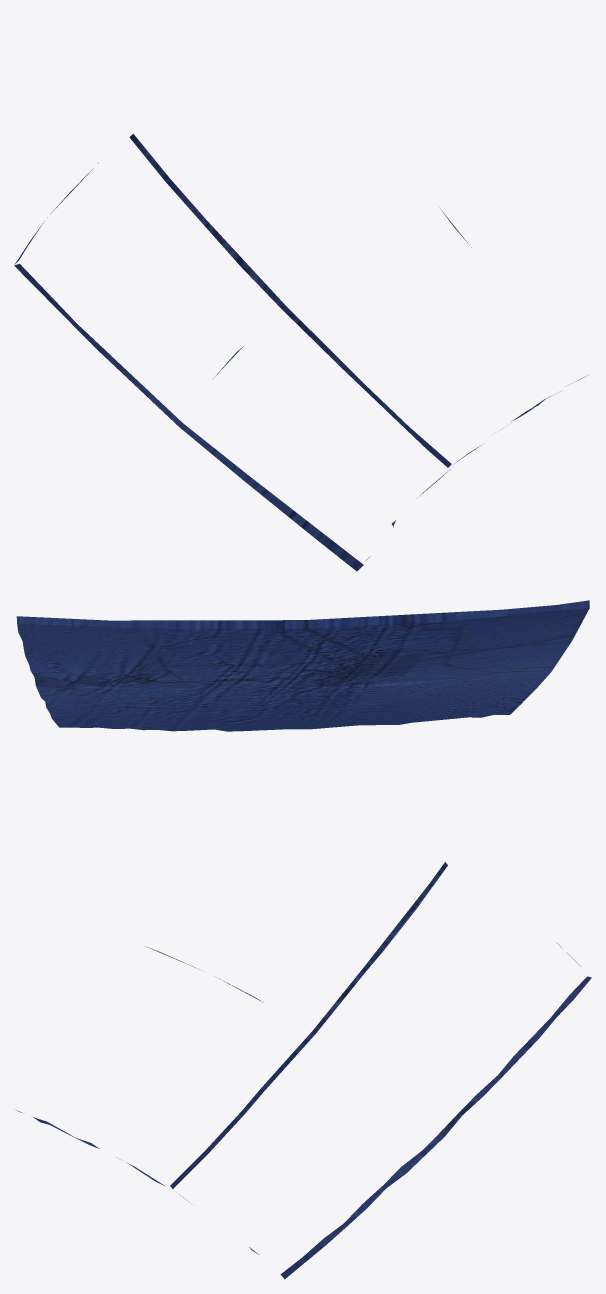
3 views of the same model, one above another, from view 1: azimuth 30°, elevation 25°; view 2: azimuth 150°, elevation 25°; view 3: azimuth 270°, elevation 25° (orthographic). The views are drawn at different scales.
Size of the model in its own units: 1854196 by 823065 by 1685976.
Materials: 1 (1 with a texture image).
